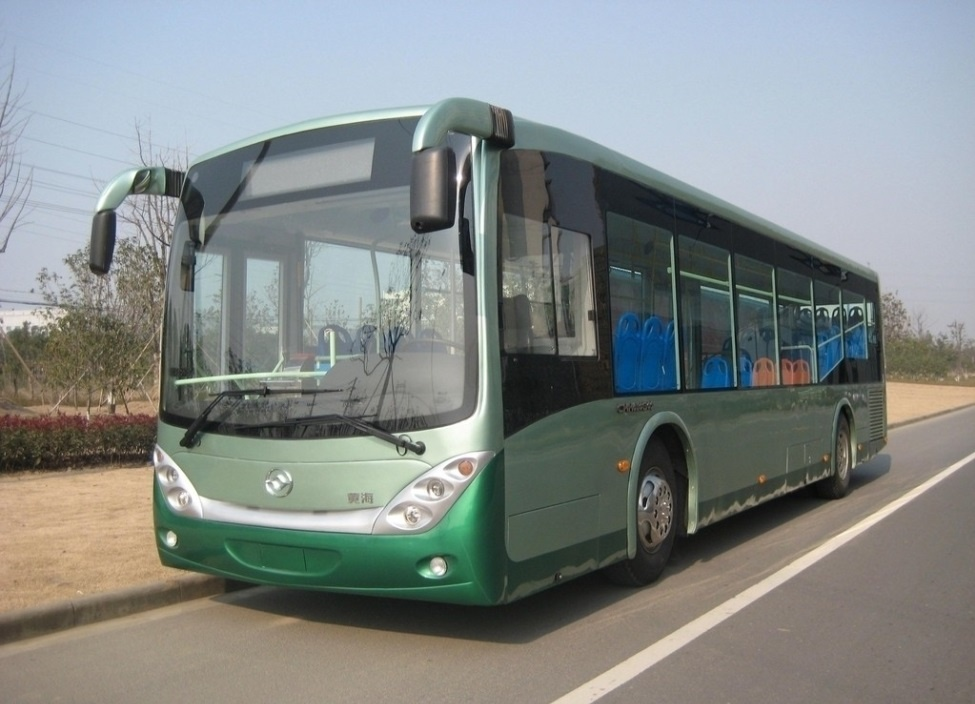bus: (83, 122, 901, 605)
